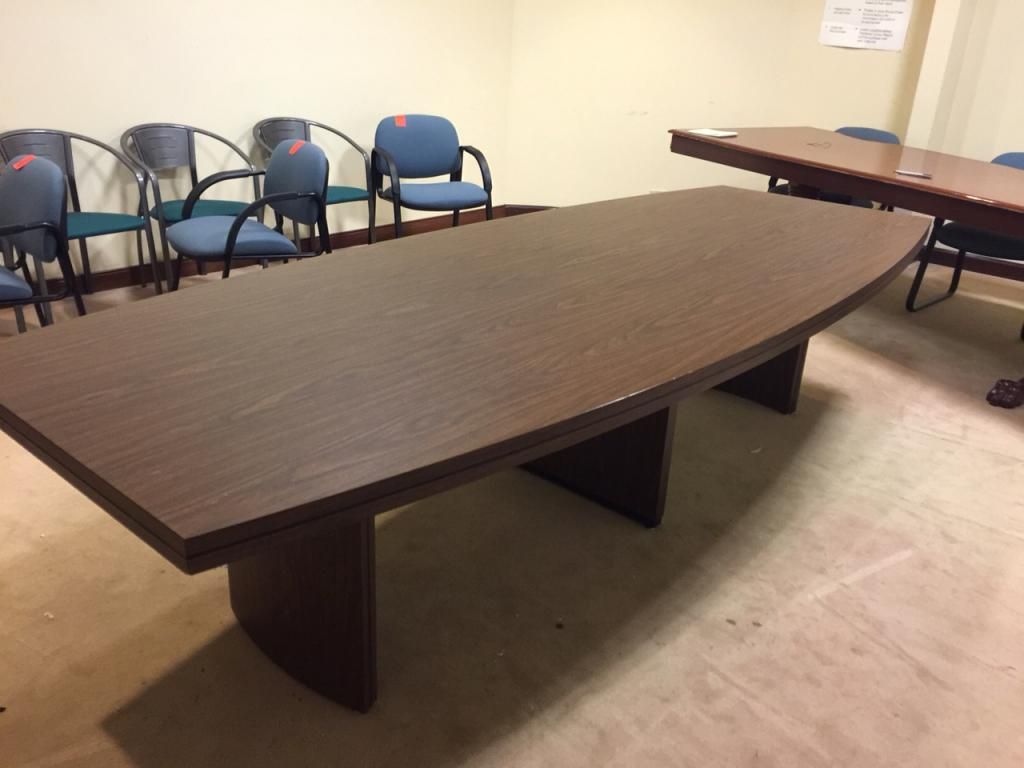conference_table: (11, 185, 932, 704), (670, 124, 1024, 280)
